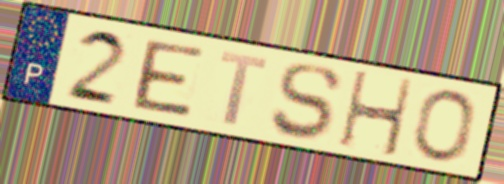2: (60, 28, 133, 108)
E: (131, 37, 208, 121)
H: (337, 68, 416, 160)
O: (411, 87, 478, 165)
S: (268, 62, 344, 141)
T: (217, 48, 272, 129)
